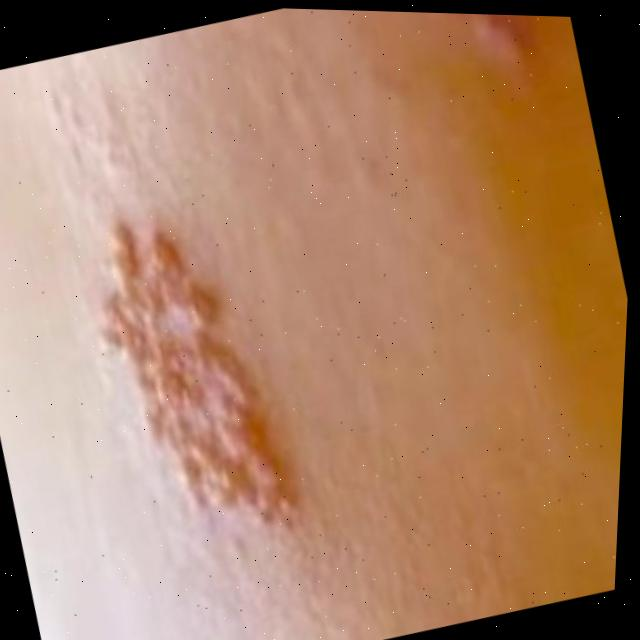Shingles: (67, 193, 320, 551), (421, 13, 560, 97)
